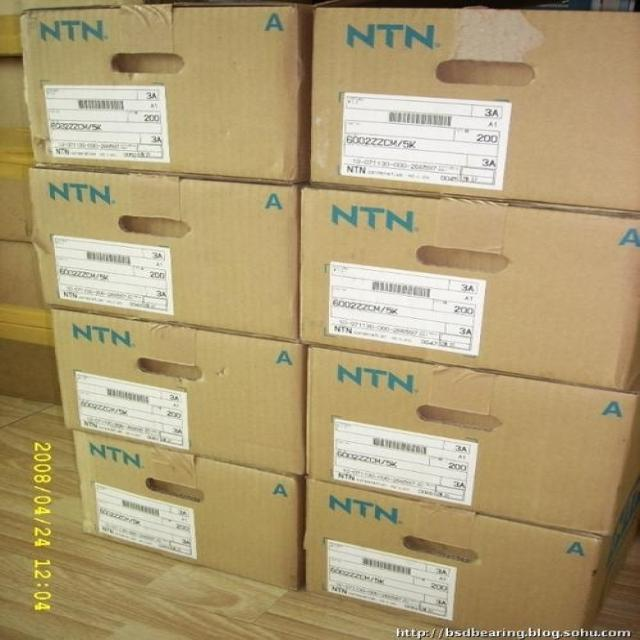box: (300, 187, 640, 394), (308, 7, 640, 215), (303, 346, 637, 539), (23, 5, 314, 185), (305, 479, 613, 640), (26, 165, 300, 344), (47, 309, 305, 477), (72, 431, 305, 592), (0, 304, 60, 406), (0, 56, 32, 162), (0, 239, 45, 308), (0, 163, 36, 242)
